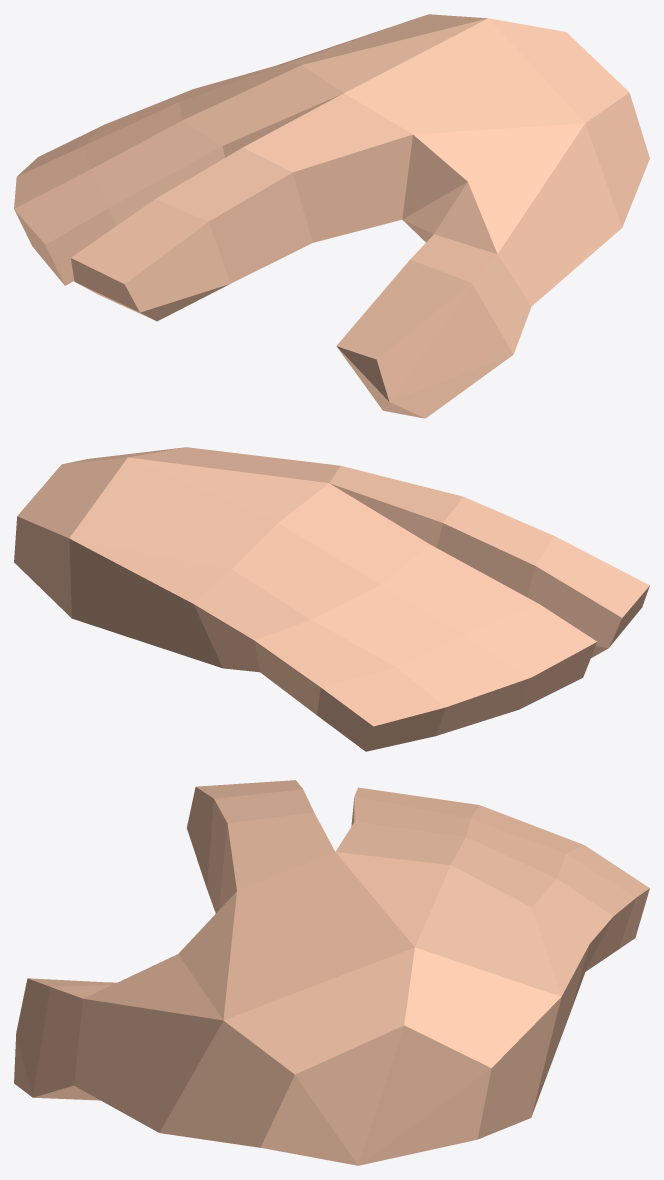
The model's file is Chr_HandRight_Female_00_Static.fbx.
3 renders of one model, top to bottom at view 1: azimuth 30°, elevation 25°; view 2: azimuth 150°, elevation 25°; view 3: azimuth 270°, elevation 25°, orthographic. The views are drawn at different scales.
Visible parts, largest first — view 1: Chr_HandRight_Female_00_Static; view 2: Chr_HandRight_Female_00_Static; view 3: Chr_HandRight_Female_00_Static.
Part boxes in pixels (bbox=[...]): Chr_HandRight_Female_00_Static: bbox=[14, 14, 649, 418]; Chr_HandRight_Female_00_Static: bbox=[14, 447, 649, 751]; Chr_HandRight_Female_00_Static: bbox=[14, 780, 649, 1165].
Size of the model in its own units: 0.2335 by 0.0952 by 0.188.
